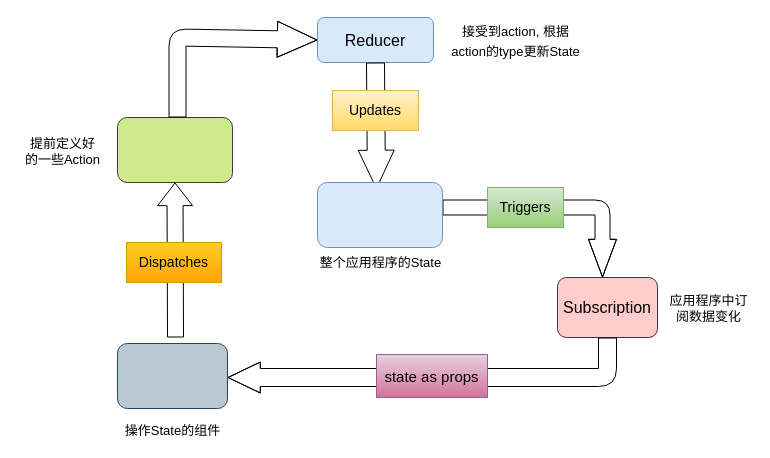
Some shapes in this 770 by 458 pixel diagram are drawn without their labels. Each missing label, with the box of its shape:
Action: (116, 116, 232, 182)
Central Store: (316, 182, 442, 248)
Component: (116, 342, 228, 408)
